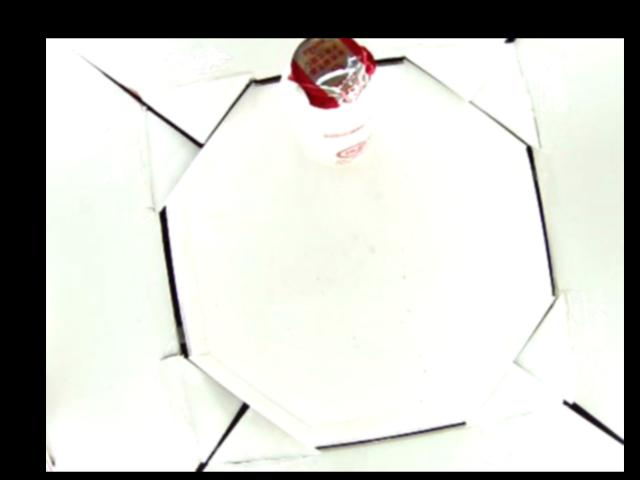Bottle: (277, 39, 382, 170)
